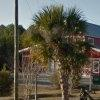Palm tree: (31, 6, 89, 89)
